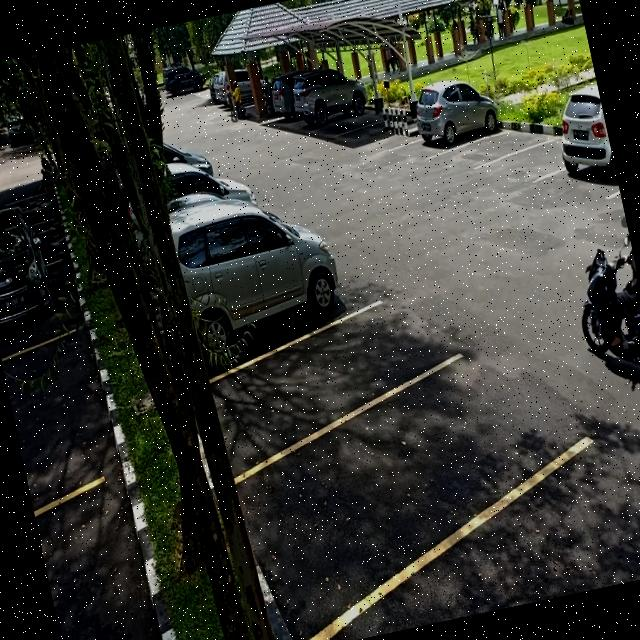empty: (237, 390, 520, 616), (212, 304, 416, 470), (0, 326, 120, 505), (498, 138, 571, 192), (456, 123, 530, 174)
occupied: (172, 195, 356, 380), (0, 239, 84, 359)
